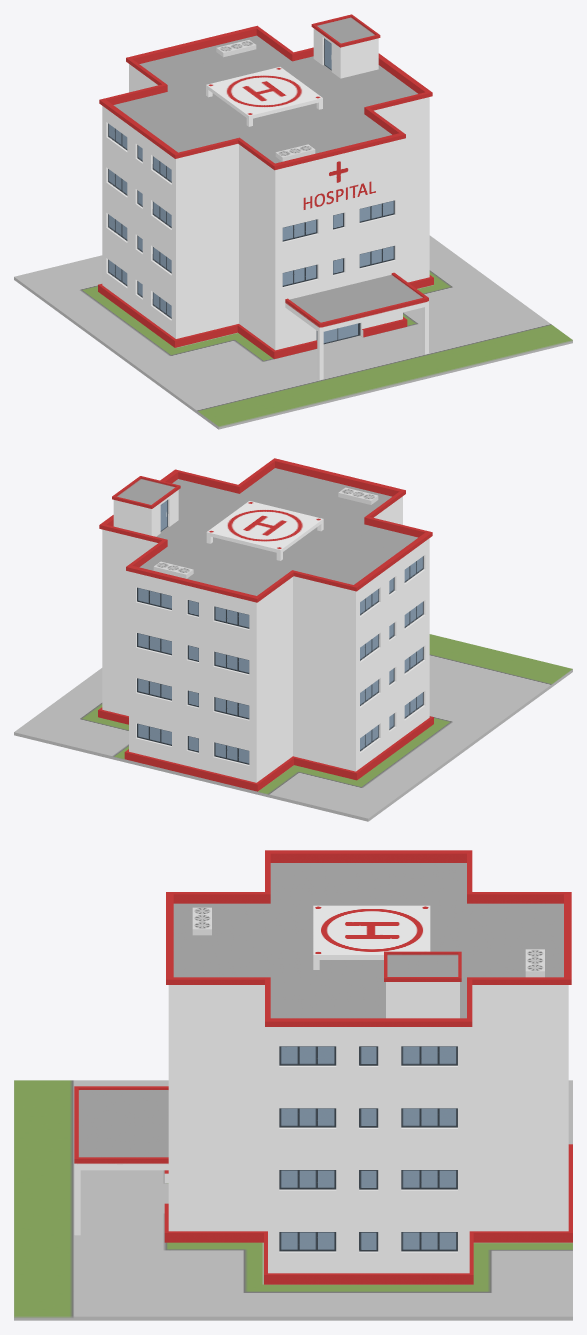
File: Hospital.glb
3 renders of one model, top to bottom at view 1: azimuth 30°, elevation 25°; view 2: azimuth 150°, elevation 25°; view 3: azimuth 270°, elevation 25°, orthographic. The views are drawn at different scales.
Visible parts, largest first — view 1: hospital; view 2: hospital; view 3: hospital.
Boxes of the visible parts, <box> form: hospital: <box>14,14,572,429</box>; hospital: <box>14,458,572,821</box>; hospital: <box>14,850,572,1320</box>.
Size of the model in its own units: 12 by 7.21 by 12.
Materials: 1 (1 with a texture image).
